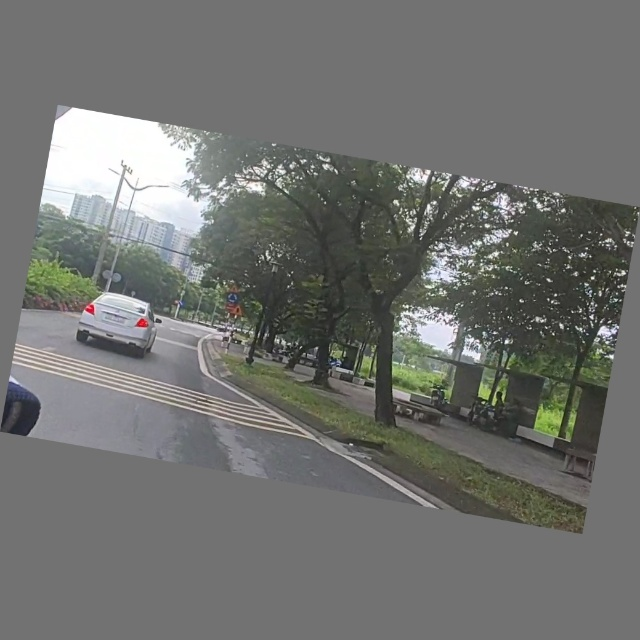P.102: (173, 298, 179, 306)
R.302a: (178, 300, 185, 308)
R.303: (226, 292, 240, 306)
W.207: (230, 305, 245, 318)
W.224: (228, 283, 242, 294)
